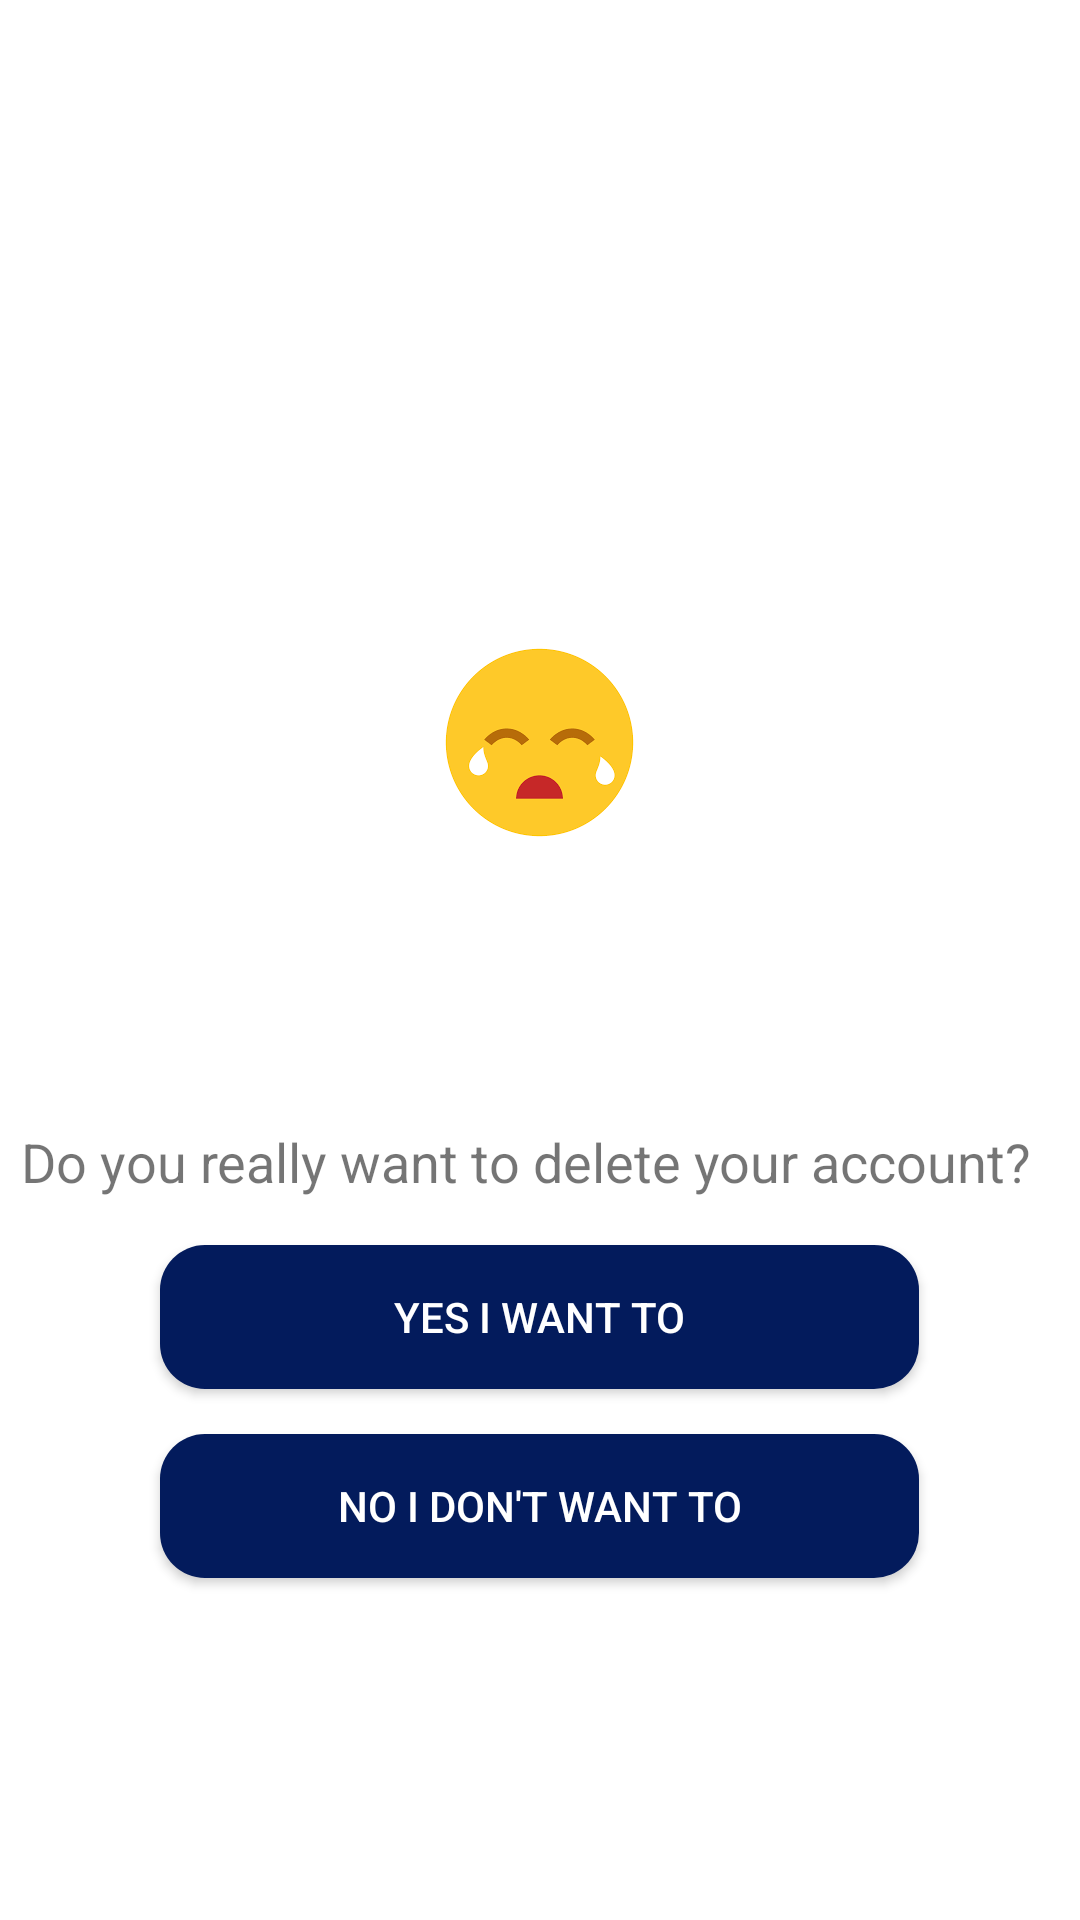

Icon click points for this 1080px×1920px phone screenshot, format (x=x, y=y):
crying emoji: (x=539, y=742)
